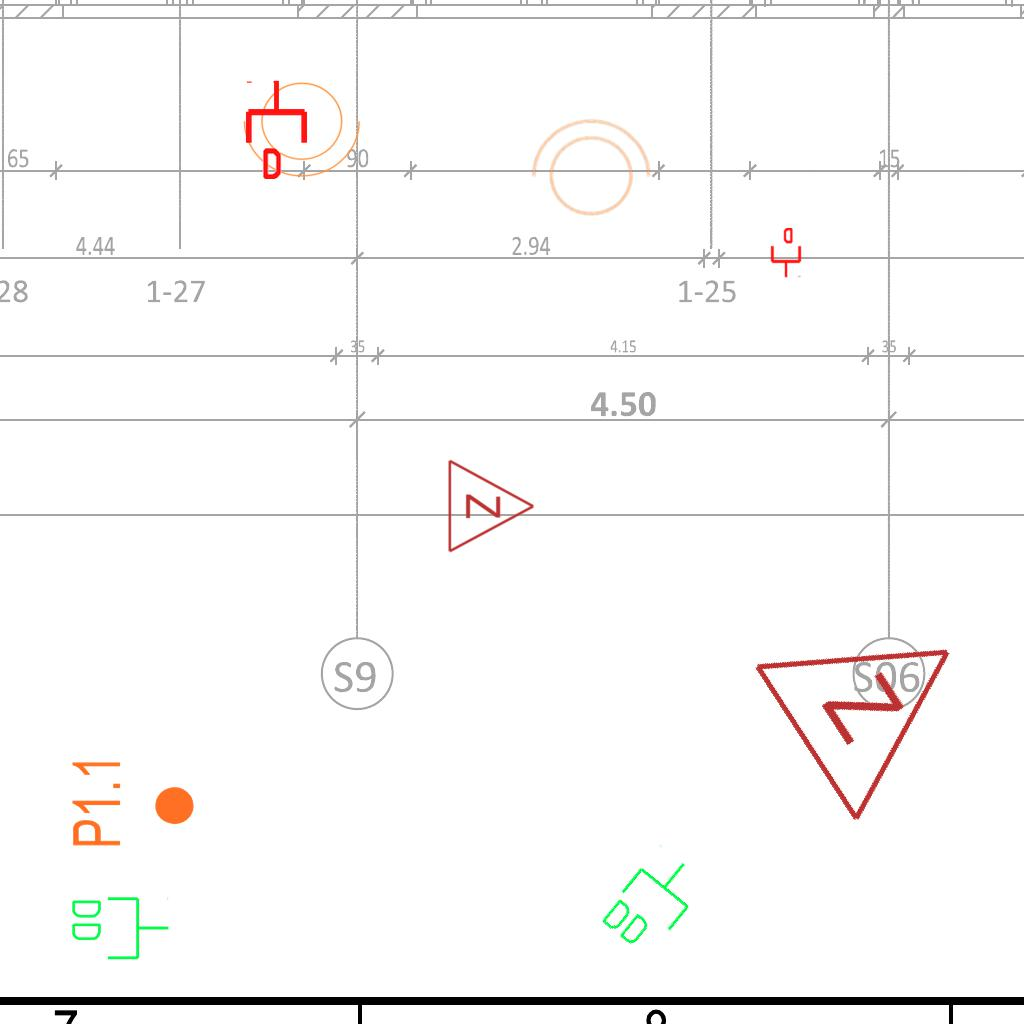Datenanschluss_einfach: (242, 79, 311, 179), (769, 228, 803, 278)
Datenanschluss_zweifach: (593, 839, 712, 964), (68, 893, 171, 962)
Downlight_LED_Einbauleuchten_Flur: (69, 756, 197, 849)
Scheinwerfer_fuer_Alarmbeleuchtung: (239, 70, 371, 182), (522, 115, 654, 227)
Zimmersignalleuchte: (737, 559, 1013, 833), (441, 456, 541, 554)
